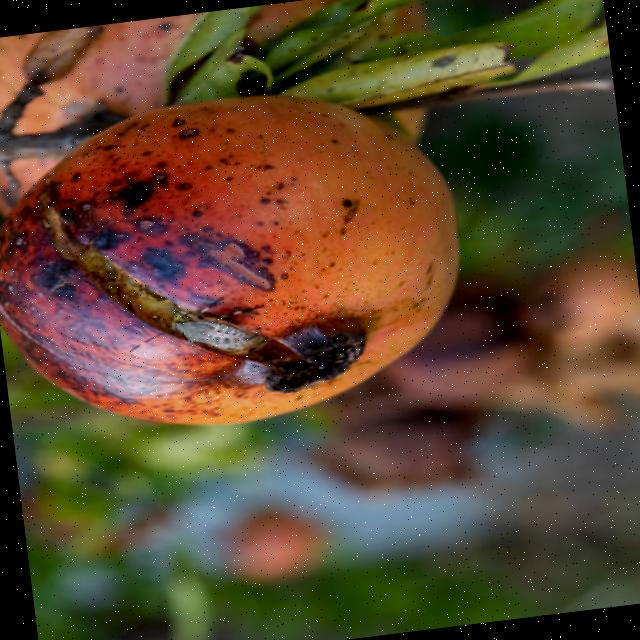overripe: (0, 64, 486, 454)
